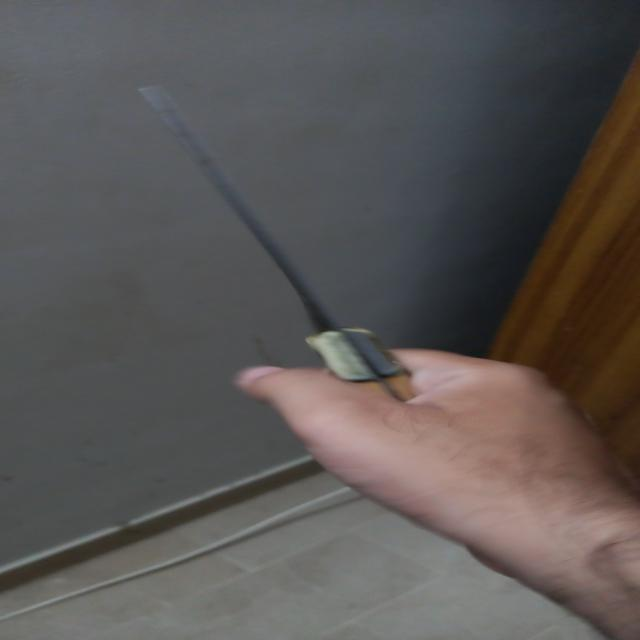knife: (118, 72, 466, 471)
